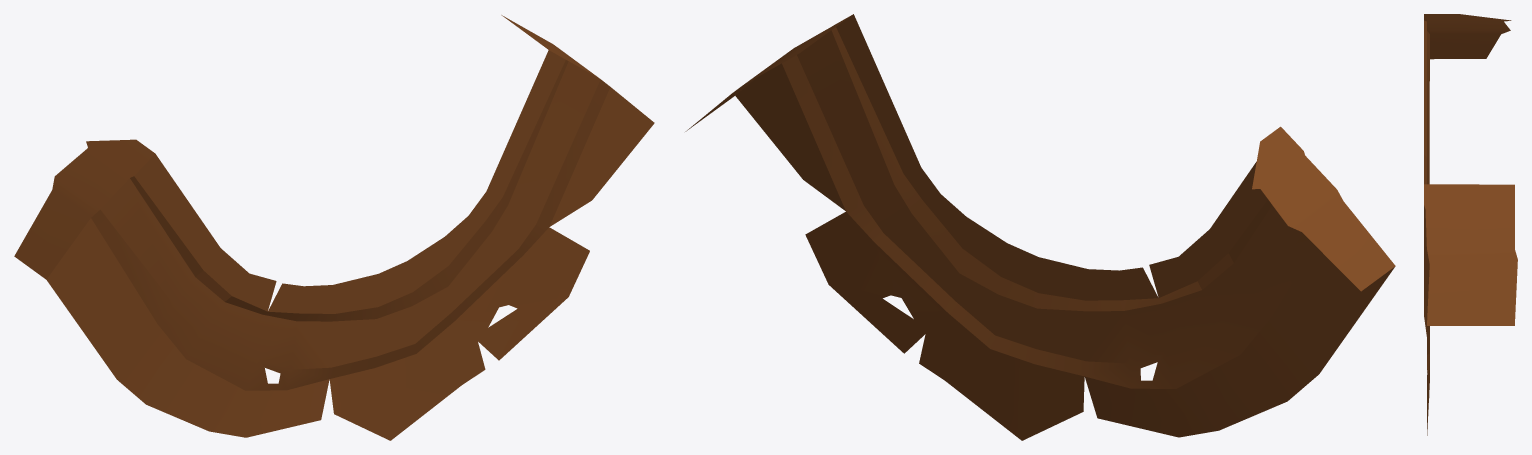
File: Flag_GothicArch.glb
3 renders of one model, left to right at view 1: azimuth 30°, elevation 25°; view 2: azimuth 150°, elevation 25°; view 3: azimuth 270°, elevation 25°, orthographic. The views are drawn at different scales.
Visible parts, largest first — view 1: Flag_GothicArch; view 2: Flag_GothicArch; view 3: Flag_GothicArch.
Boxes of the visible parts, x1=… form: Flag_GothicArch: x1=14, y1=15, x2=654, y2=440; Flag_GothicArch: x1=685, y1=14, x2=1395, y2=440; Flag_GothicArch: x1=1424, y1=14, x2=1517, y2=435.
Size of the model in its own units: 1.09 by 0.6078 by 0.158.
